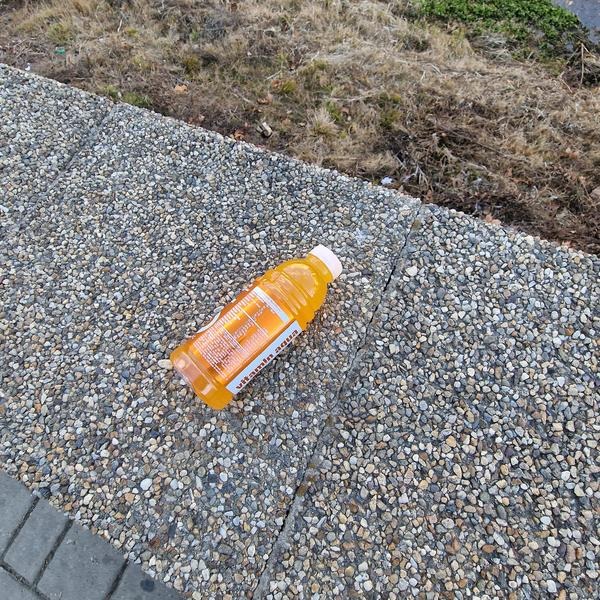plastic_bottle: (163, 227, 361, 415)
